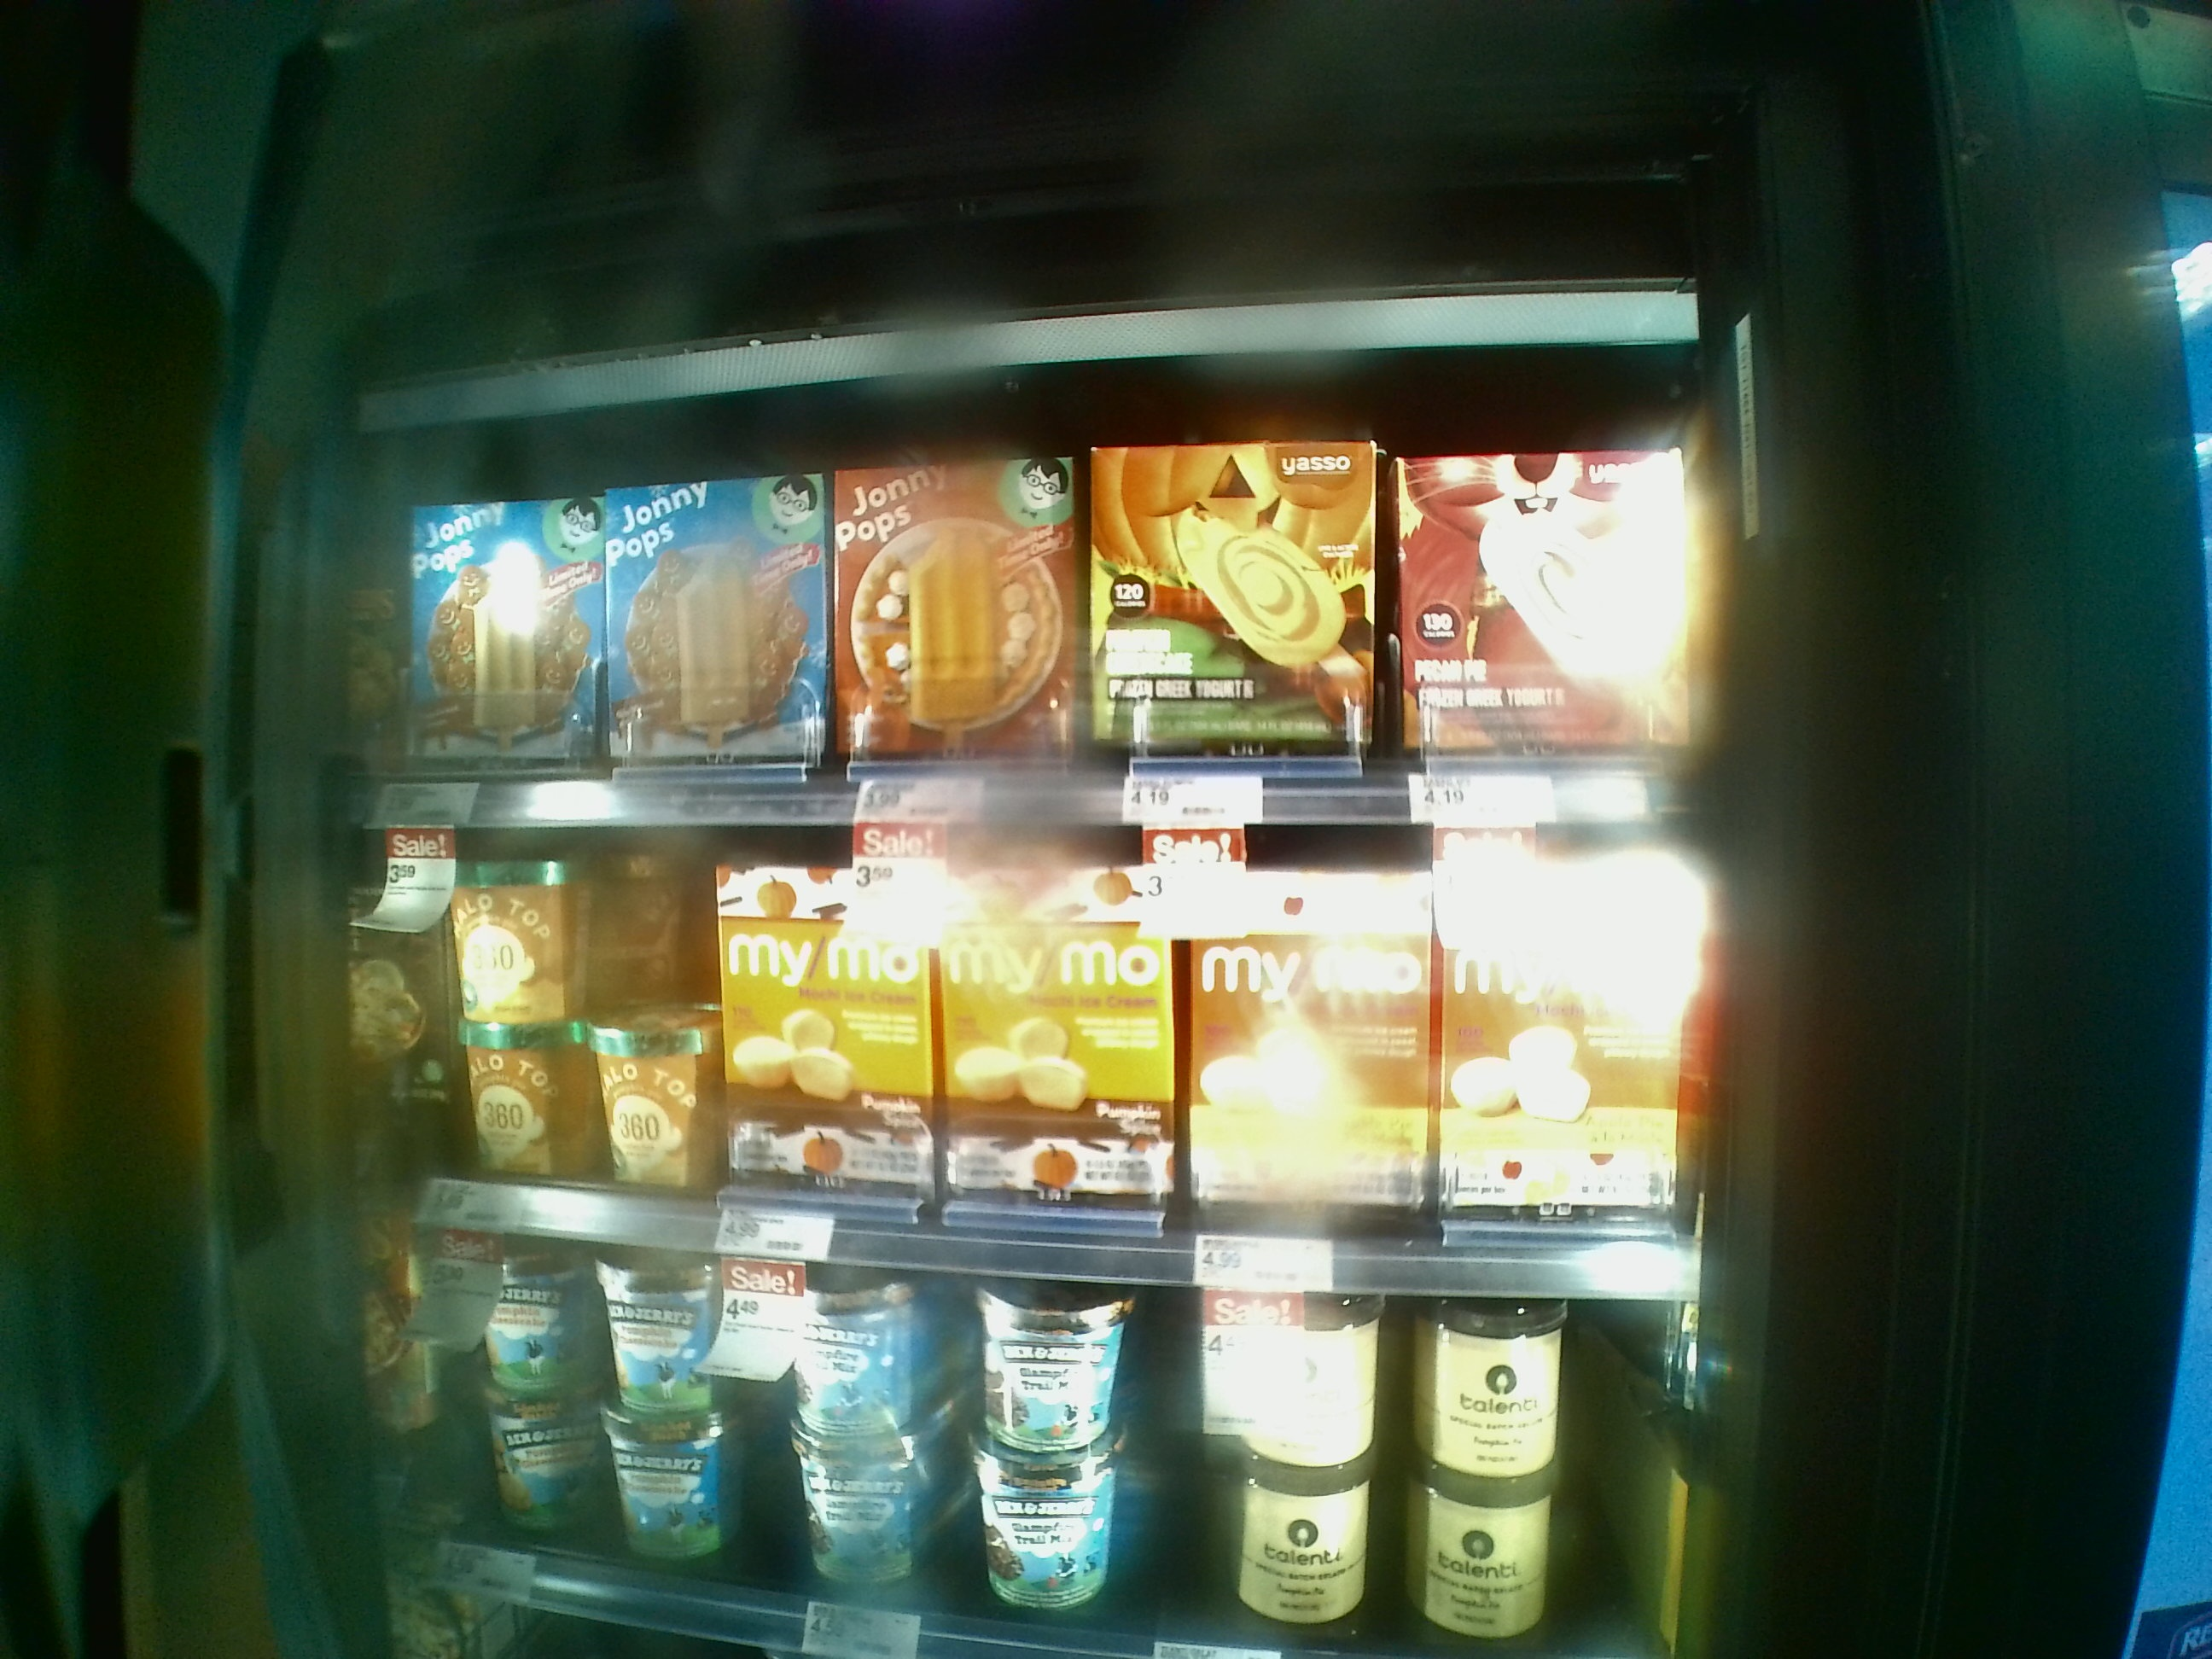shelf: (350, 821, 1716, 1310), (347, 399, 1695, 817)
